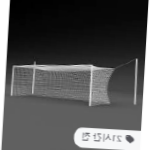goals: (11, 62, 117, 108)
